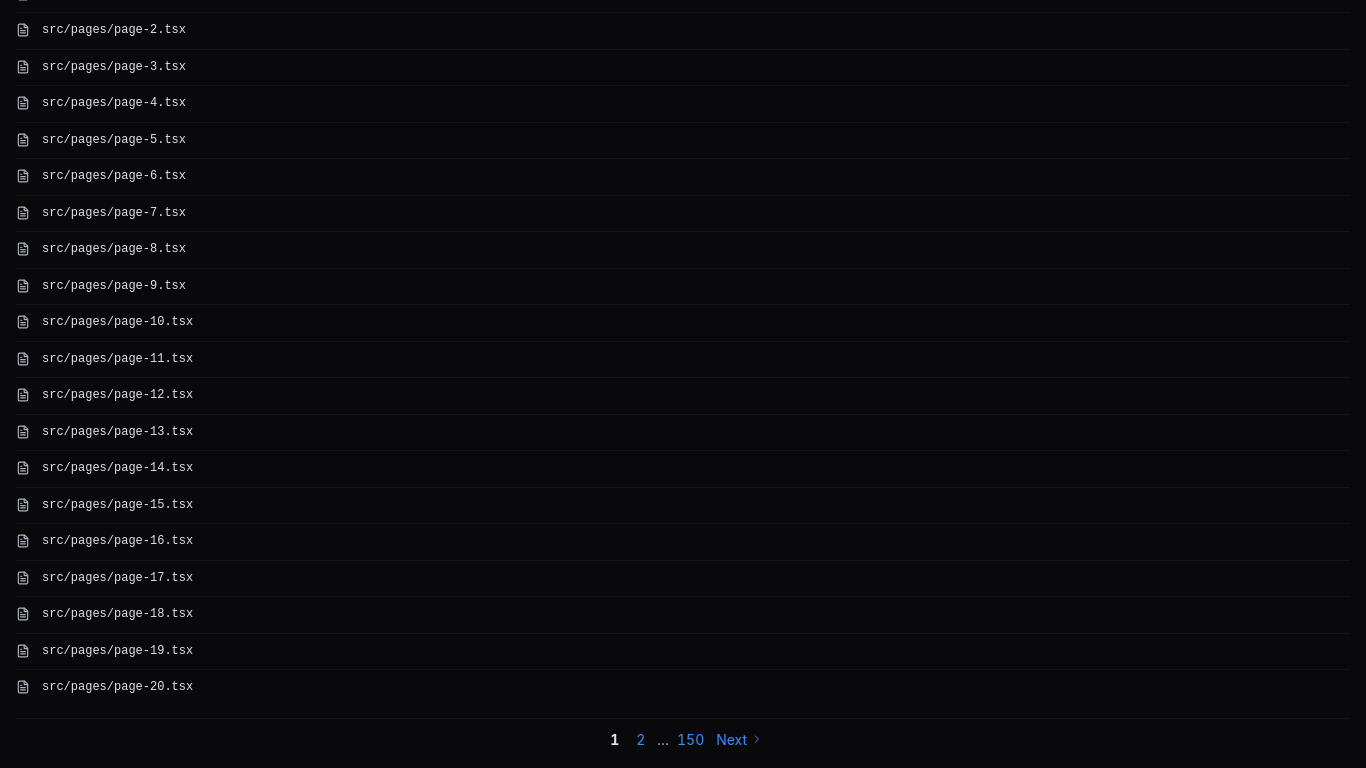
Test case: Issue dossier sections › bounds the affected-file list and reveals the rest through the pager
(page scrolled)
Step 1. Click the button with aria-label "Next location page" → (740, 739), box [716,728,763,750]
(page scrolled)
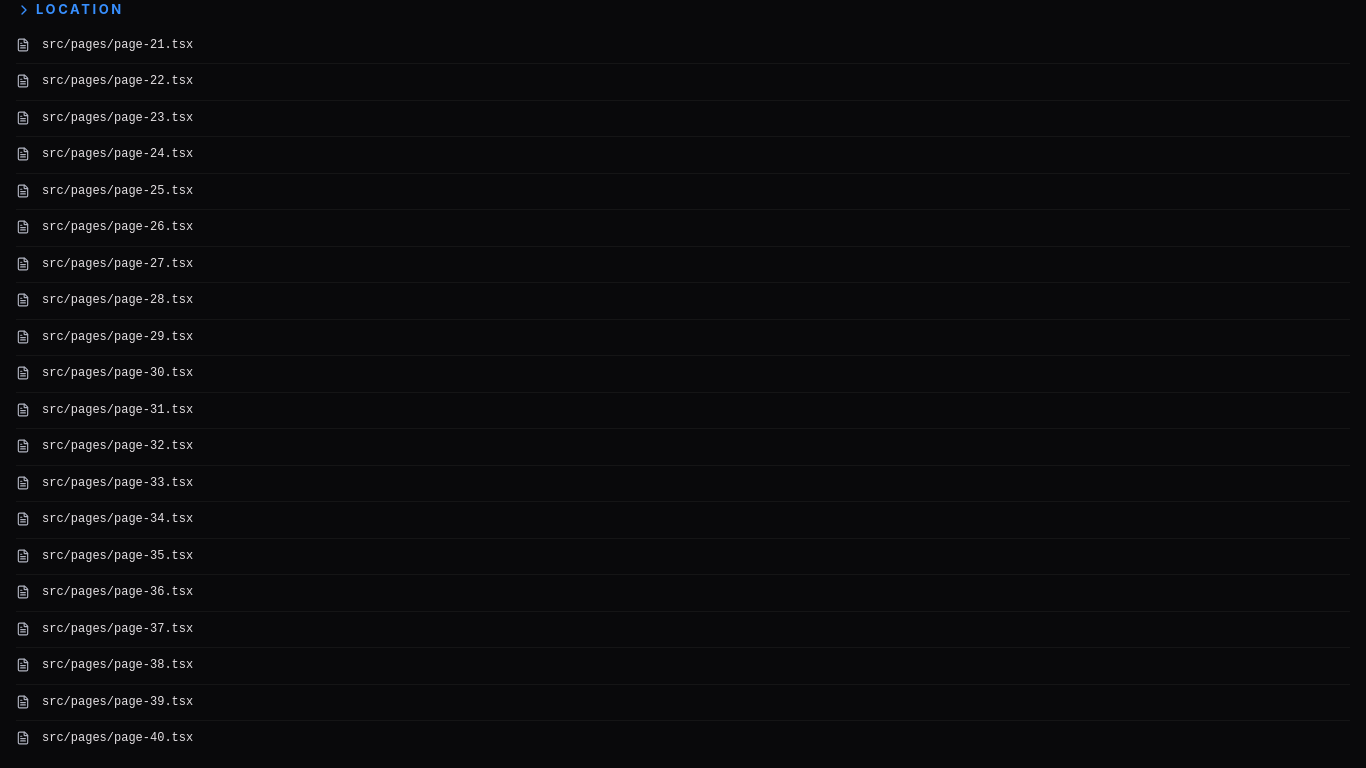
Check: the text "src/pages/page-21.tsx" is shown, box [42,38,193,52]
